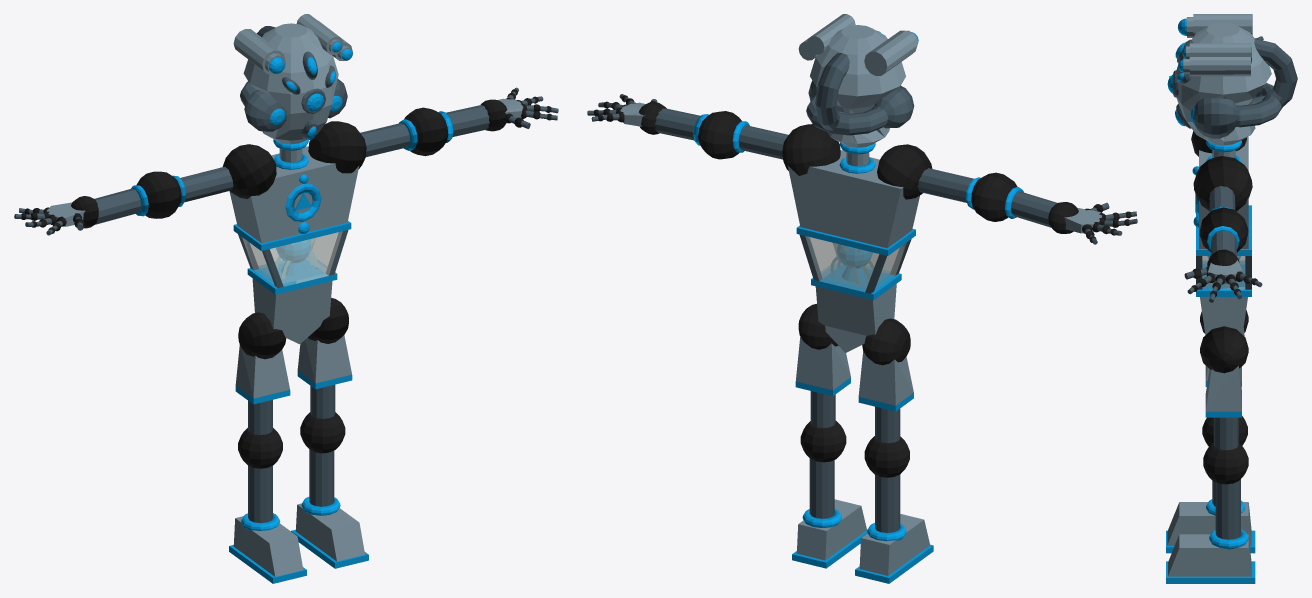
Rendered from ob3m9-by-giuseppe-zemba-5vuAnGYains.glb.
3 views of the same model, side by side, from view 1: azimuth 30°, elevation 25°; view 2: azimuth 150°, elevation 25°; view 3: azimuth 270°, elevation 25° (orthographic).
Parts seen in each view (by area): view 1: group1215507361, group747585303, group396310089, group1095980208, group1089835645, group1482123344, group1536082465, group1779938619, group1792039997, group1790740330, group148514178, group992840643 (+17 smaller); view 2: group1215507361, group747585303, group396310089, group10629961, group1095980208, group1089835645, group1536082465, group1792039997, group1790740330, group1779938619, group148514178, group992840643 (+17 smaller); view 3: group1215507361, group1089835645, group1536082465, group48115585, group1095980208, group1790740330, group781137026, group1837251770, group396310089, group1304060873, group1338236742, group874051027 (+15 smaller).
Boxes of the visible parts, <box> form: group1215507361: <box>233,14,352,144</box>; group747585303: <box>229,146,359,243</box>; group396310089: <box>252,278,332,344</box>; group1095980208: <box>233,516,303,576</box>; group1089835645: <box>295,503,364,561</box>; group1482123344: <box>270,231,342,286</box>; group1536082465: <box>308,121,366,173</box>; group1779938619: <box>222,144,276,198</box>; group1792039997: <box>235,344,289,398</box>; group1790740330: <box>297,335,351,383</box>; group148514178: <box>238,312,286,359</box>; group992840643: <box>136,171,181,218</box>; group1215507361: <box>798,14,918,147</box>; group747585303: <box>787,150,919,248</box>; group396310089: <box>815,284,896,352</box>; group10629961: <box>805,236,878,291</box>; group1095980208: <box>859,514,929,575</box>; group1089835645: <box>796,499,866,560</box>; group1536082465: <box>782,124,840,175</box>; group1792039997: <box>858,351,913,405</box>; group1790740330: <box>796,337,850,390</box>; group1779938619: <box>877,144,932,199</box>; group148514178: <box>862,318,910,365</box>; group992840643: <box>971,172,1017,221</box>; group1215507361: <box>1167,14,1297,145</box>; group1089835645: <box>1168,534,1251,576</box>; group1536082465: <box>1193,156,1252,211</box>; group48115585: <box>1200,326,1248,373</box>; group1095980208: <box>1167,502,1251,545</box>; group1790740330: <box>1205,366,1241,411</box>; group781137026: <box>1215,479,1240,539</box>; group1837251770: <box>1203,442,1248,484</box>; group396310089: <box>1200,297,1247,336</box>; group1304060873: <box>1184,259,1262,302</box>; group1338236742: <box>1199,207,1248,252</box>; group874051027: <box>1213,417,1238,450</box>.
Size of the model in its own units: 1.89 by 1.78 by 0.3987.
